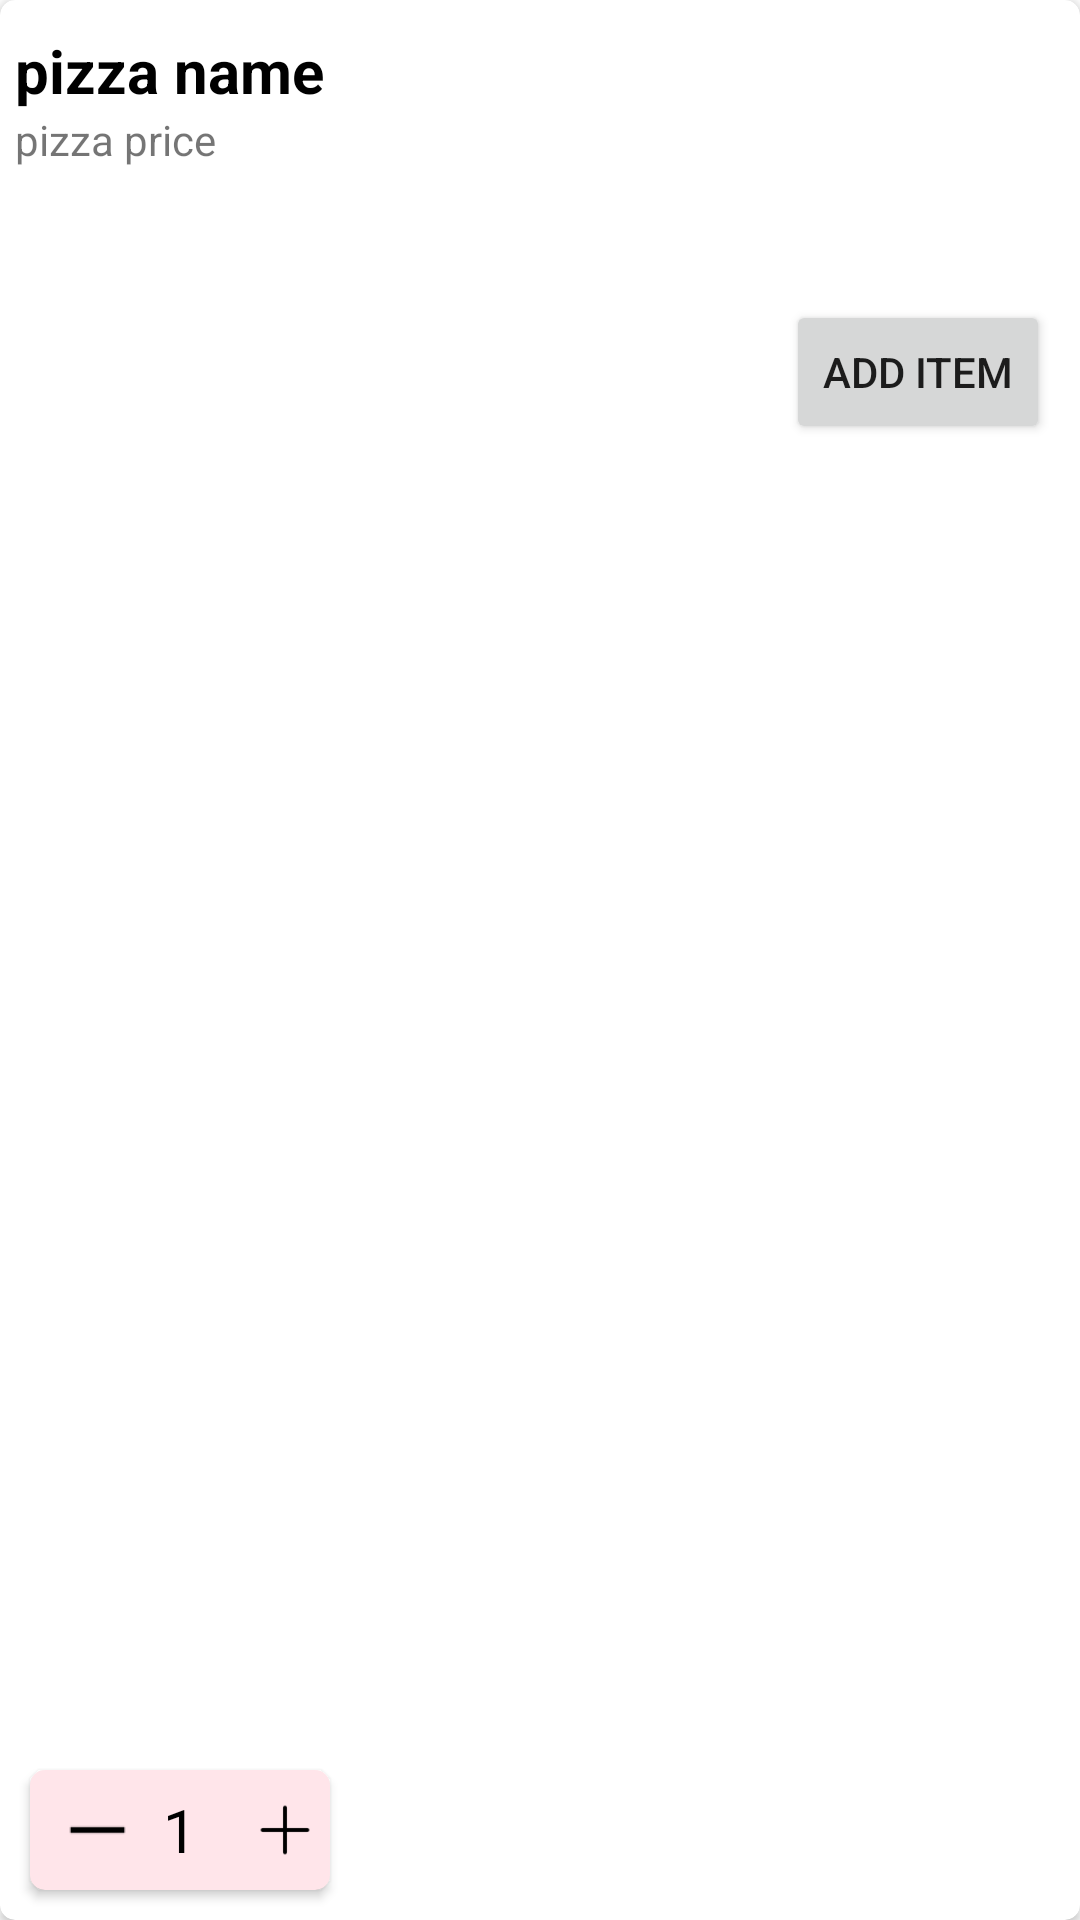

Screen size 1080px×1920px. Icon name, then its center in pixels as (x,y):
addition: (285,1830)
